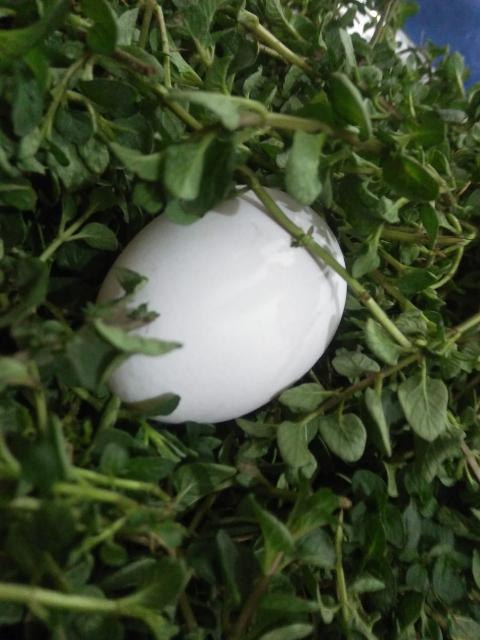Sano: (94, 186, 345, 421)
